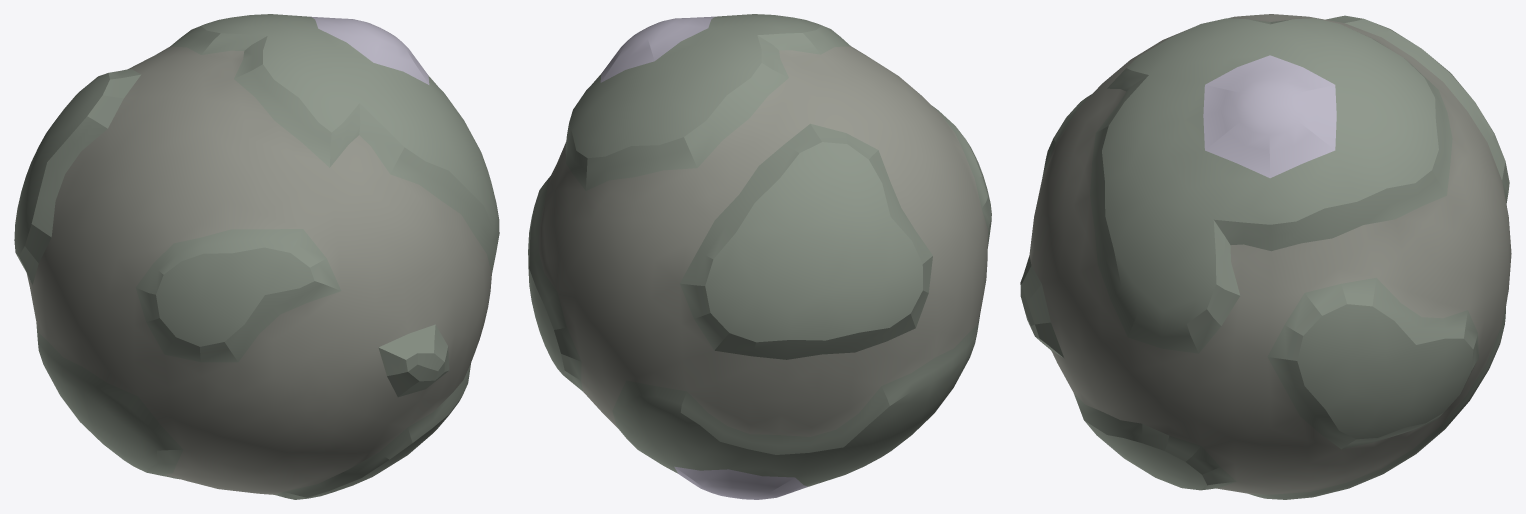
Rendered from planet-1.glb.
3 views of the same model, side by side, from view 1: azimuth 30°, elevation 25°; view 2: azimuth 150°, elevation 25°; view 3: azimuth 270°, elevation 25° (orthographic). The views are drawn at different scales.
Visible parts, largest first — view 1: Planet_1; view 2: Planet_1; view 3: Planet_1.
Boxes of the visible parts, <box> form: Planet_1: <box>14,14,499,499</box>; Planet_1: <box>528,14,991,499</box>; Planet_1: <box>1020,14,1511,499</box>.
Bounding box in the file's own units: 77.04 × 80 × 77.5.
1 material, 1 textured.
